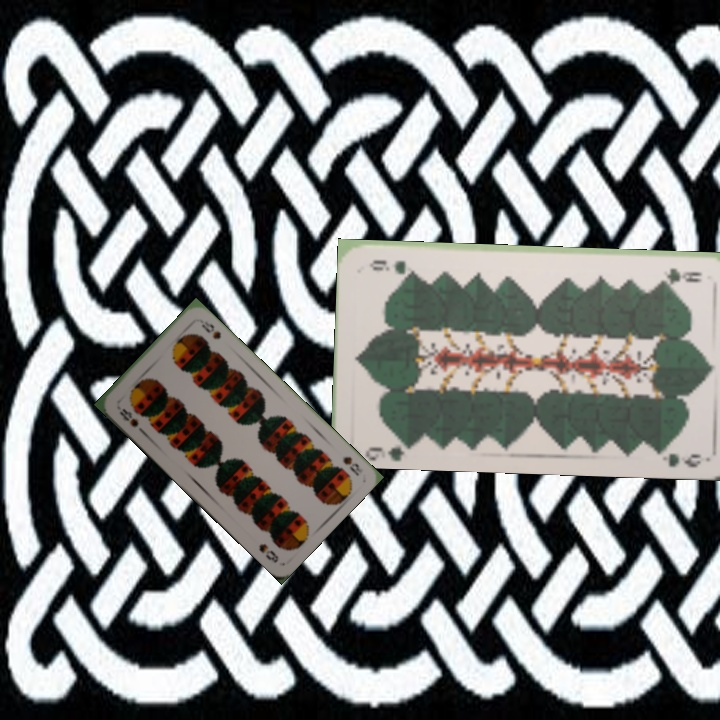G9: (361, 434, 414, 461), (656, 264, 705, 285)
S8: (338, 452, 365, 478), (115, 404, 141, 430)
